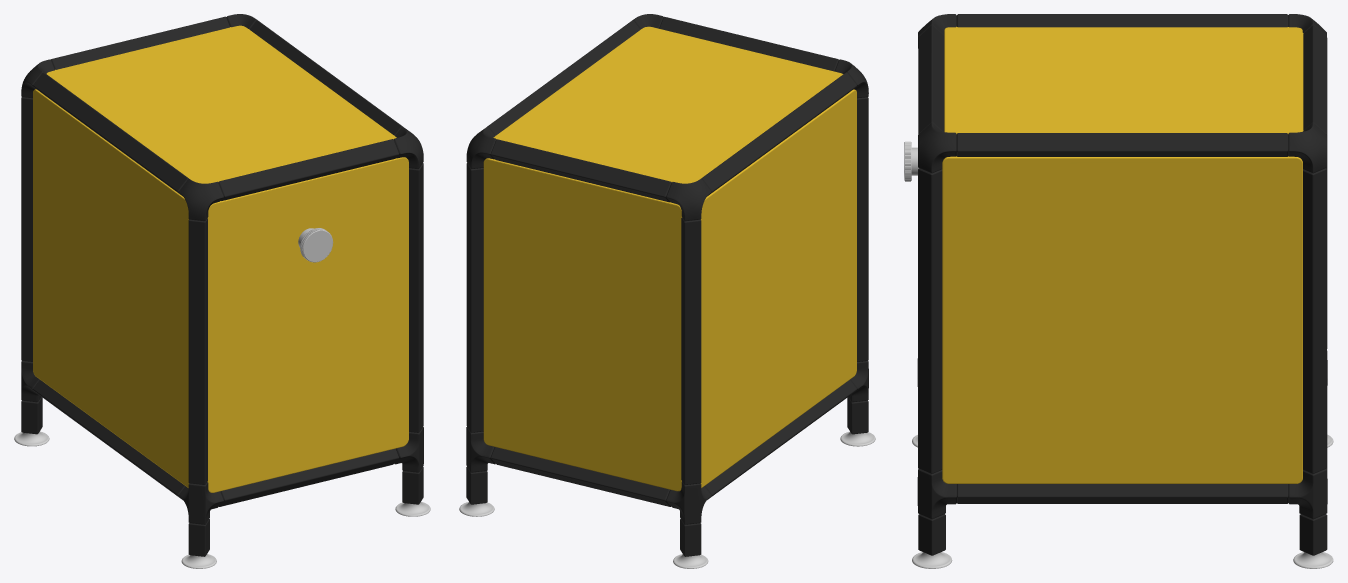
3 views of the same model, side by side, from view 1: azimuth 30°, elevation 25°; view 2: azimuth 150°, elevation 25°; view 3: azimuth 270°, elevation 25° (orthographic). The views are drawn at different scales.
Parts seen in each view (by area): view 1: 229x329x329; view 2: 229x329x329; view 3: 229x329x329.
Boxes of the visible parts, x1,y1,x2,y2 form: 229x329x329: (14,14,430,568); 229x329x329: (459,14,875,568); 229x329x329: (904,14,1333,568).
Size of the model in its own units: 0.3189 by 0.4683 by 0.4257.
